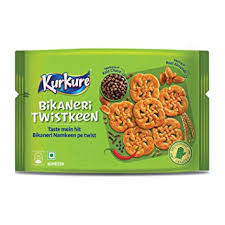kurkure: (35, 74, 92, 93)
plastic: (12, 41, 216, 183)
wrapper: (14, 46, 212, 177)
